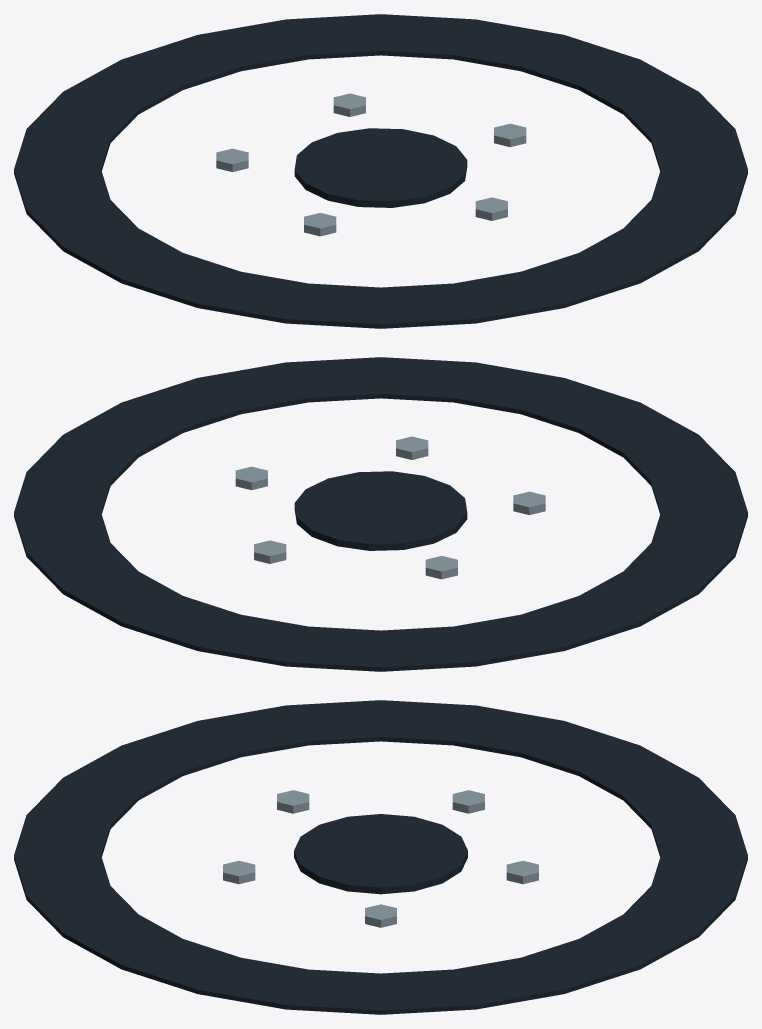
The model's file is wheel_trim.dae.
3 views of the same model, one above another, from view 1: azimuth 30°, elevation 25°; view 2: azimuth 150°, elevation 25°; view 3: azimuth 270°, elevation 25° (orthographic).
Visible parts, largest first — view 1: model; view 2: model; view 3: model.
Part boxes in pixels (box(x1,y1,x2,y2)): model: box(14, 14, 747, 328); model: box(14, 357, 747, 671); model: box(14, 700, 747, 1014).
Size of the model in its own units: 0.118 by 0.118 by 0.0019.
